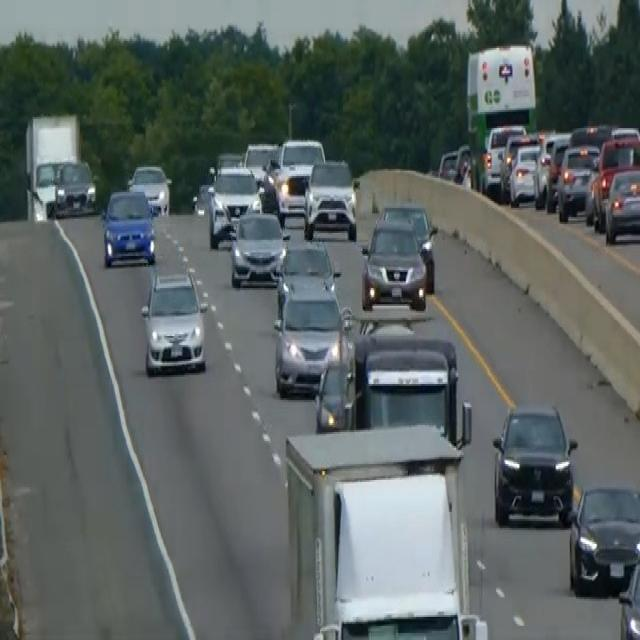bus: (464, 41, 538, 194)
car: (491, 400, 577, 526), (273, 279, 346, 397), (567, 480, 639, 596), (362, 215, 428, 311), (378, 199, 437, 292), (586, 133, 639, 230), (274, 238, 337, 316), (302, 156, 358, 240), (229, 208, 288, 286), (100, 185, 156, 267), (272, 135, 325, 217), (556, 140, 598, 220), (314, 352, 356, 432), (482, 123, 525, 192), (604, 164, 639, 244), (212, 163, 260, 217), (54, 157, 96, 215), (127, 162, 170, 215), (508, 139, 542, 206), (277, 135, 325, 178), (618, 546, 639, 638), (544, 137, 570, 210), (205, 189, 233, 247), (243, 139, 279, 183), (32, 158, 58, 217), (214, 150, 244, 172)
lorry: (282, 418, 488, 638), (351, 331, 460, 441)
minivan: (138, 265, 209, 379)
truck: (23, 110, 81, 220)
